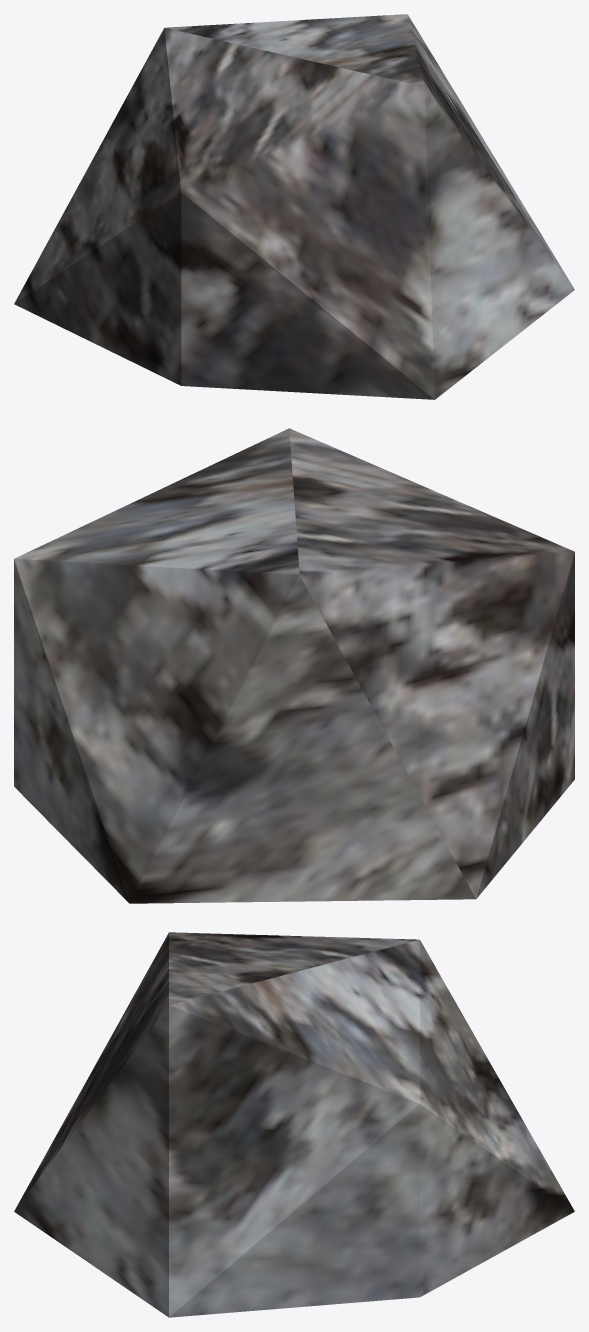
The model's file is park_medium_02.fbx.
The picture shows the model from 3 angles, top to bottom: view 1: azimuth 30°, elevation 25°; view 2: azimuth 150°, elevation 25°; view 3: azimuth 270°, elevation 25°; orthographic projection. The views are drawn at different scales.
Parts seen in each view (by area): view 1: park_medium_02; view 2: park_medium_02; view 3: park_medium_02.
Part boxes in pixels (<box>): park_medium_02: <box>14,14,574,399</box>; park_medium_02: <box>14,428,574,903</box>; park_medium_02: <box>14,932,574,1317</box>.
Size of the model in its own units: 16.59 by 8.73 by 18.54.
